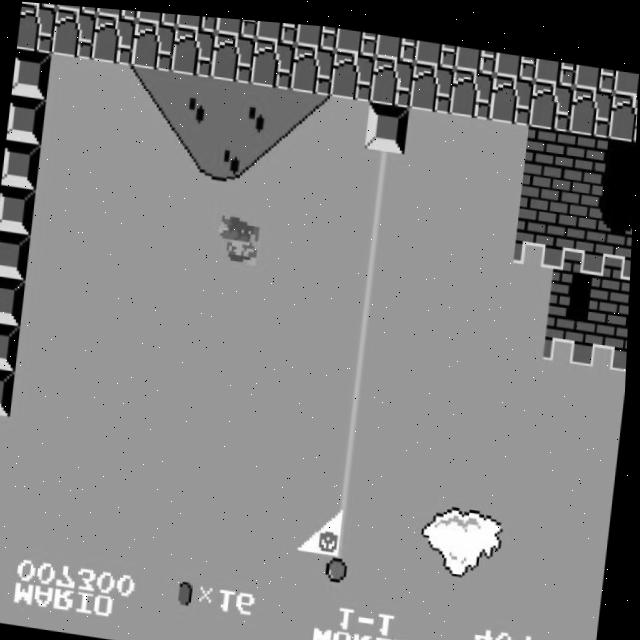11- little_mario: (214, 210, 262, 264)
17- undestructible_block: (51, 6, 97, 58), (130, 17, 176, 69), (210, 28, 256, 80), (250, 33, 296, 85), (369, 49, 415, 101), (409, 55, 455, 107), (449, 60, 495, 112), (568, 76, 614, 128), (170, 23, 216, 74), (91, 12, 136, 64), (290, 39, 335, 91), (330, 44, 375, 96), (489, 65, 534, 117), (529, 71, 574, 122), (17, 2, 56, 53), (608, 81, 639, 132), (334, 22, 378, 51), (374, 27, 418, 56), (493, 43, 537, 72), (533, 48, 577, 77), (573, 54, 617, 83), (414, 33, 458, 61), (453, 38, 497, 66), (294, 19, 338, 45), (254, 16, 298, 39), (214, 14, 258, 35), (174, 11, 218, 29), (612, 59, 639, 87), (135, 9, 178, 23), (95, 6, 138, 18), (55, 4, 98, 13)
7- goal_pole: (317, 549, 363, 601), (321, 504, 367, 556), (341, 322, 387, 374), (350, 231, 396, 283), (331, 413, 377, 464), (345, 277, 391, 328), (355, 186, 401, 237), (336, 367, 381, 419), (360, 140, 405, 192), (327, 459, 372, 509)
9- hard_block: (365, 95, 411, 147), (7, 93, 47, 144), (3, 139, 42, 189), (12, 48, 51, 98), (0, 184, 37, 234), (0, 230, 32, 280), (0, 275, 27, 325), (0, 320, 23, 370), (0, 366, 18, 415)
